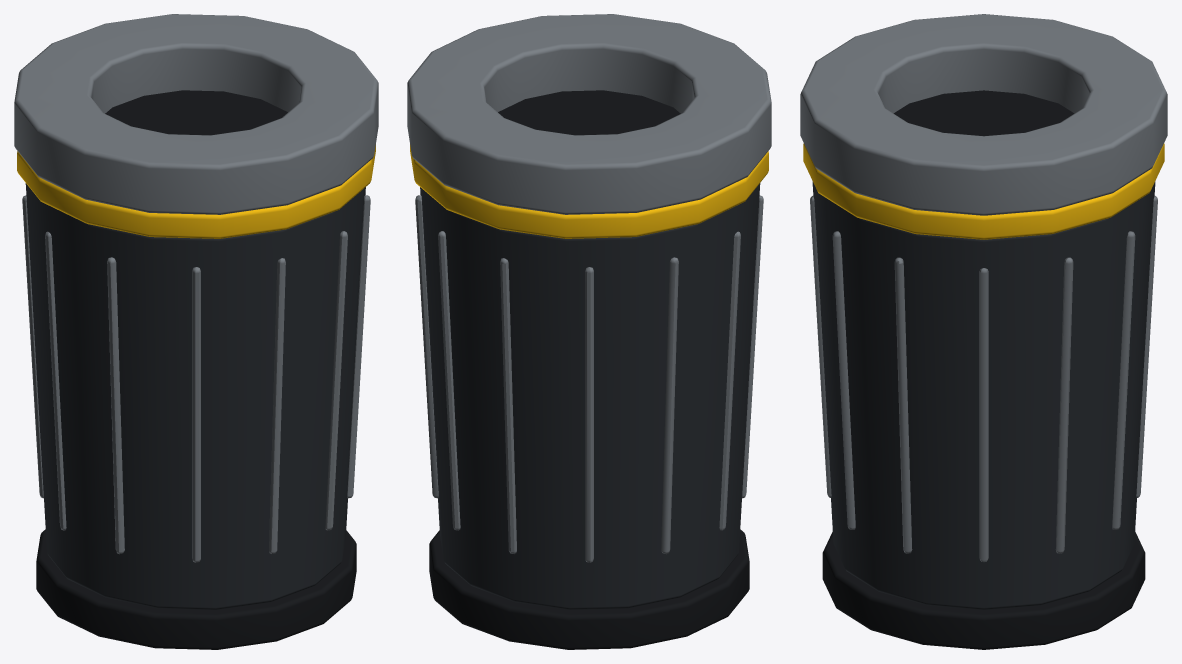
Rendered from PROP_BIN_01.glb.
3 renders of one model, left to right at view 1: azimuth 30°, elevation 25°; view 2: azimuth 150°, elevation 25°; view 3: azimuth 270°, elevation 25°, orthographic.
Parts seen in each view (by area): view 1: CIVRUM_GAME_PROP_BIN_01; view 2: CIVRUM_GAME_PROP_BIN_01; view 3: CIVRUM_GAME_PROP_BIN_01.
Part boxes in pixels (x1,y1,x2,y2): CIVRUM_GAME_PROP_BIN_01: (14,14,378,649); CIVRUM_GAME_PROP_BIN_01: (407,14,771,649); CIVRUM_GAME_PROP_BIN_01: (800,14,1167,649).
Bounding box in the file's own units: 0.66 × 0.98 × 0.66.
